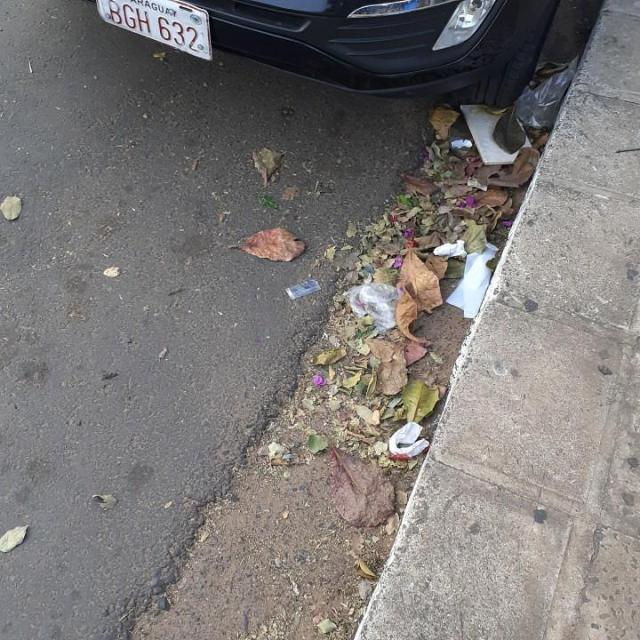litter: (443, 242, 500, 324), (339, 277, 412, 339), (382, 415, 436, 469), (282, 275, 327, 304), (433, 236, 468, 260)
